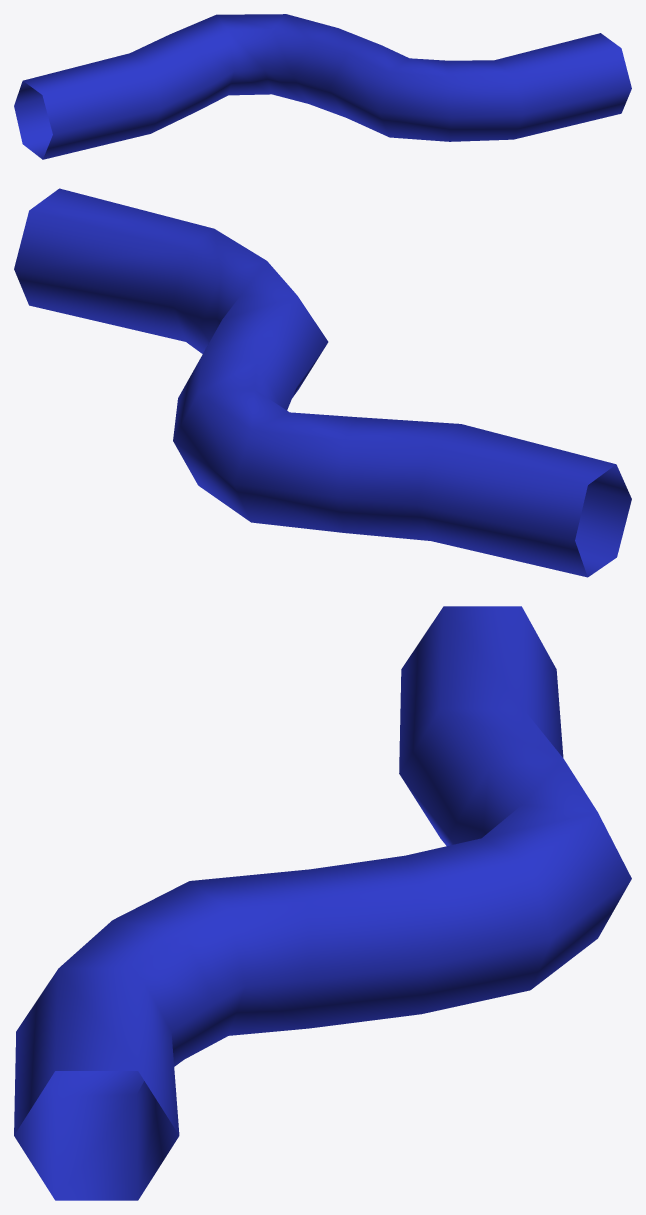
The model's file is Módulo de Cabos 5.fbx.
3 views of the same model, one above another, from view 1: azimuth 30°, elevation 25°; view 2: azimuth 150°, elevation 25°; view 3: azimuth 270°, elevation 25° (orthographic). The views are drawn at different scales.
Parts seen in each view (by area): view 1: Cube.004; view 2: Cube.004; view 3: Cube.004.
Part boxes in pixels (x1,y1,x2,y2): Cube.004: (14, 14, 631, 159); Cube.004: (14, 188, 631, 577); Cube.004: (14, 606, 631, 1200).
Size of the model in its own units: 701 by 90.99 by 392.
